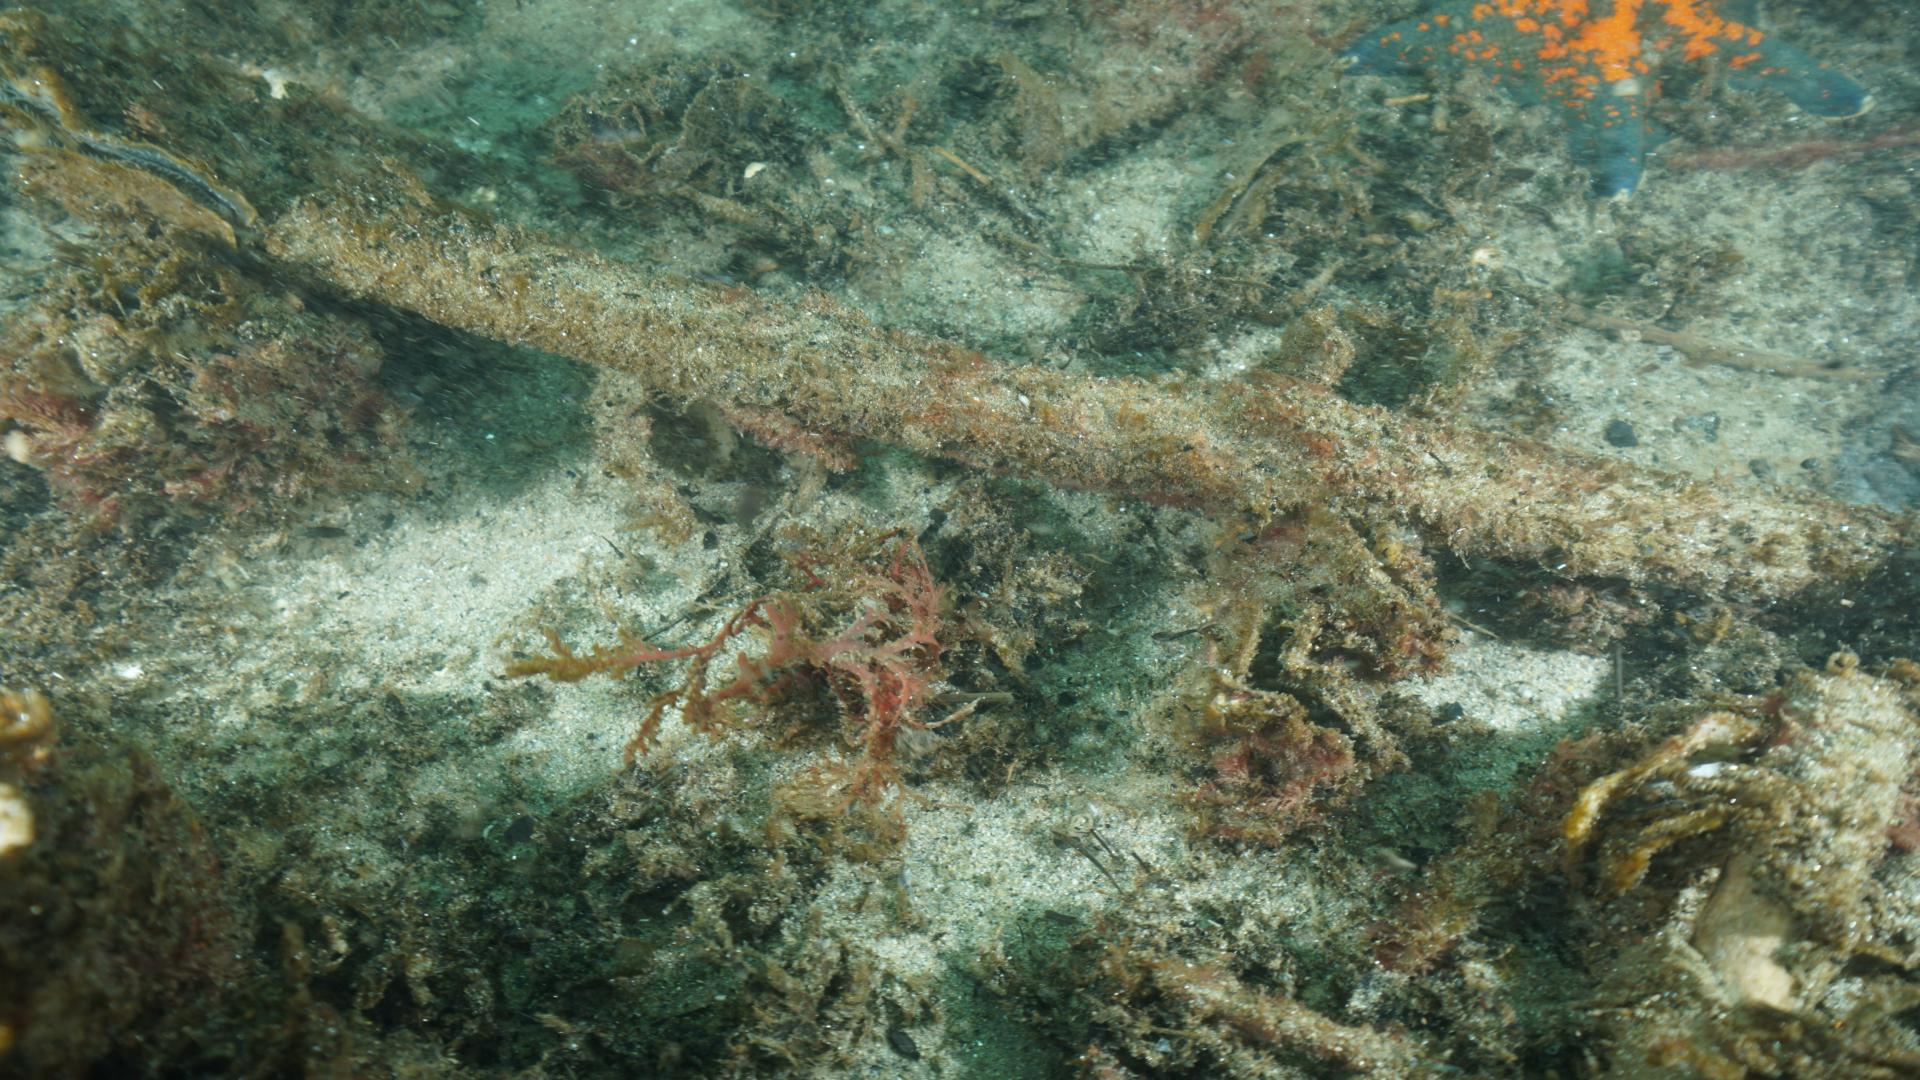wood: (262, 187, 1920, 613)
